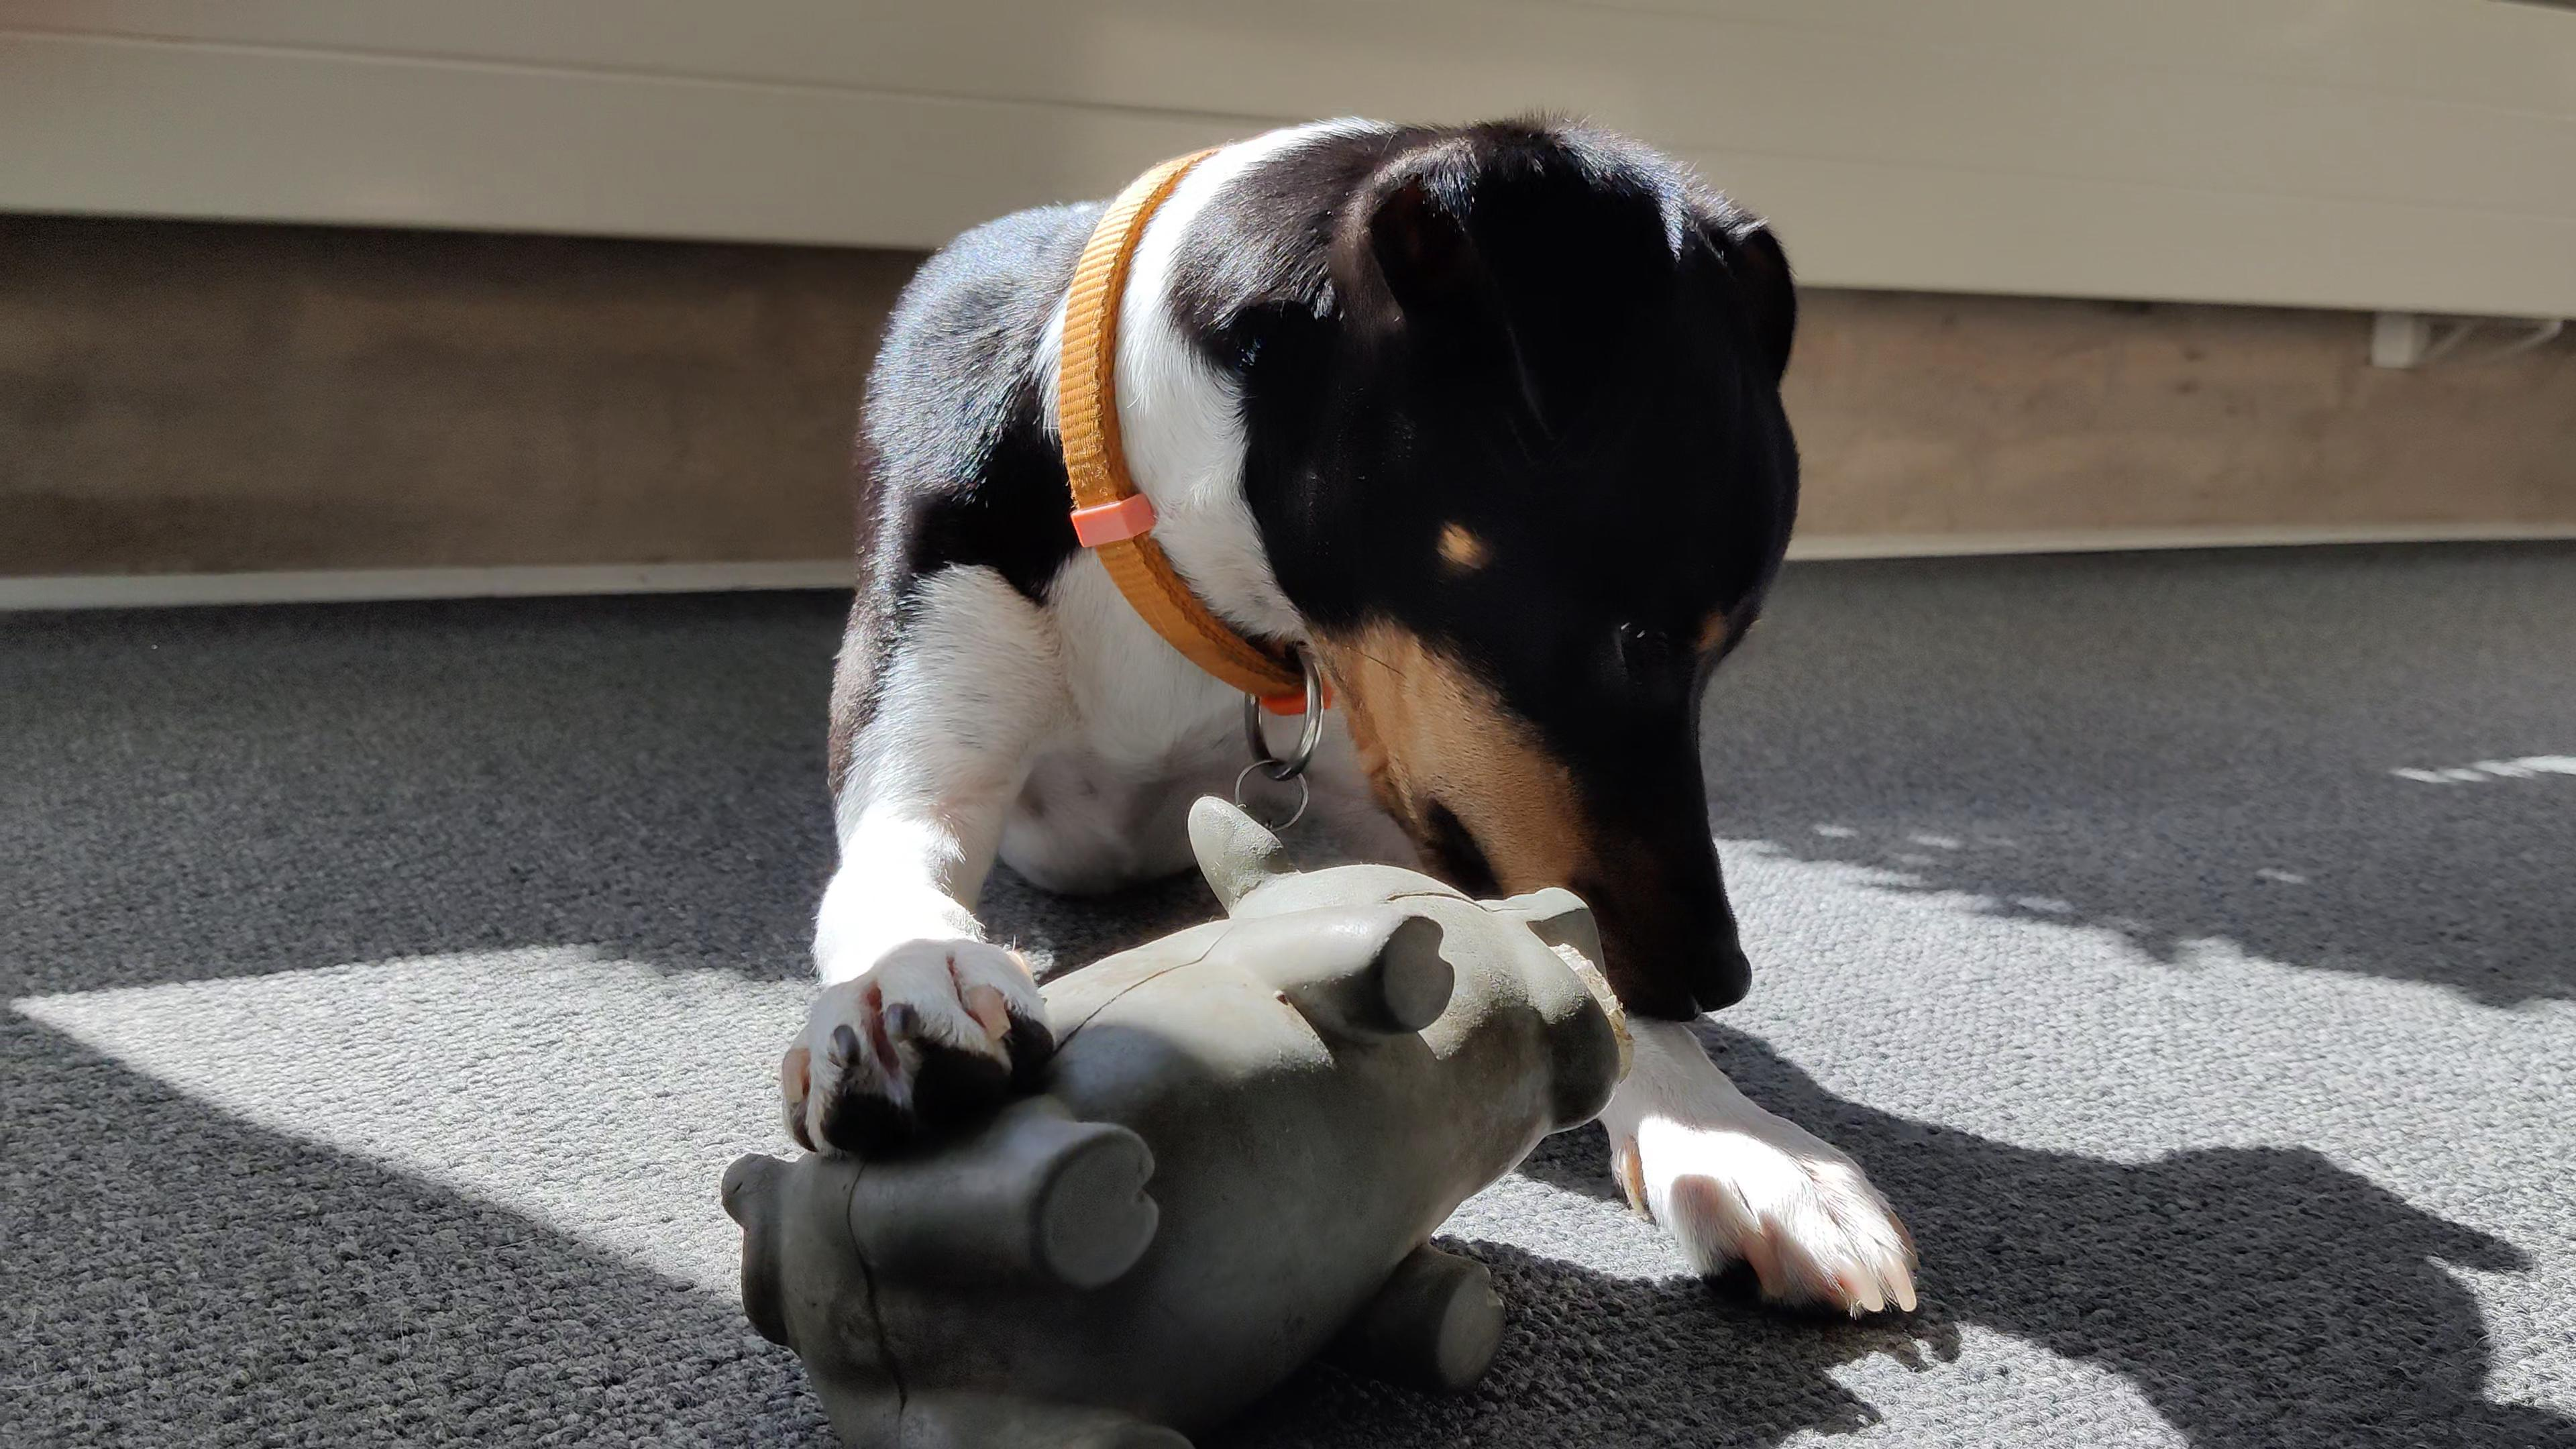Dog: (755, 50, 1948, 1341)
